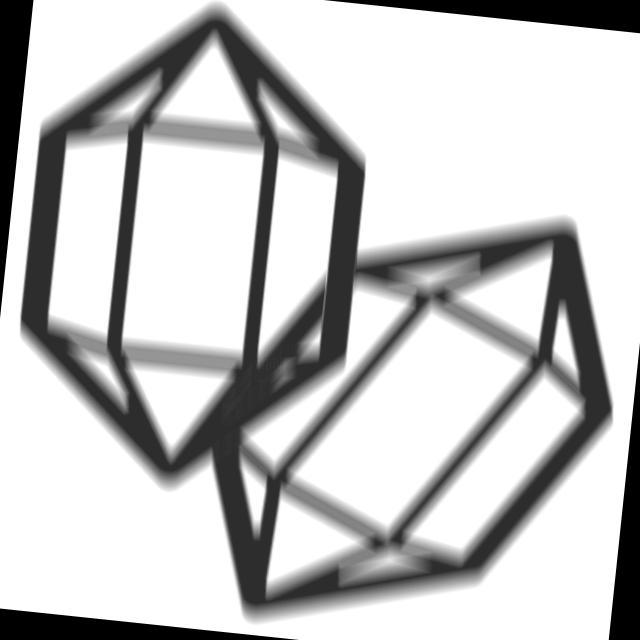crystal: (176, 165, 640, 640), (1, 1, 395, 517)
